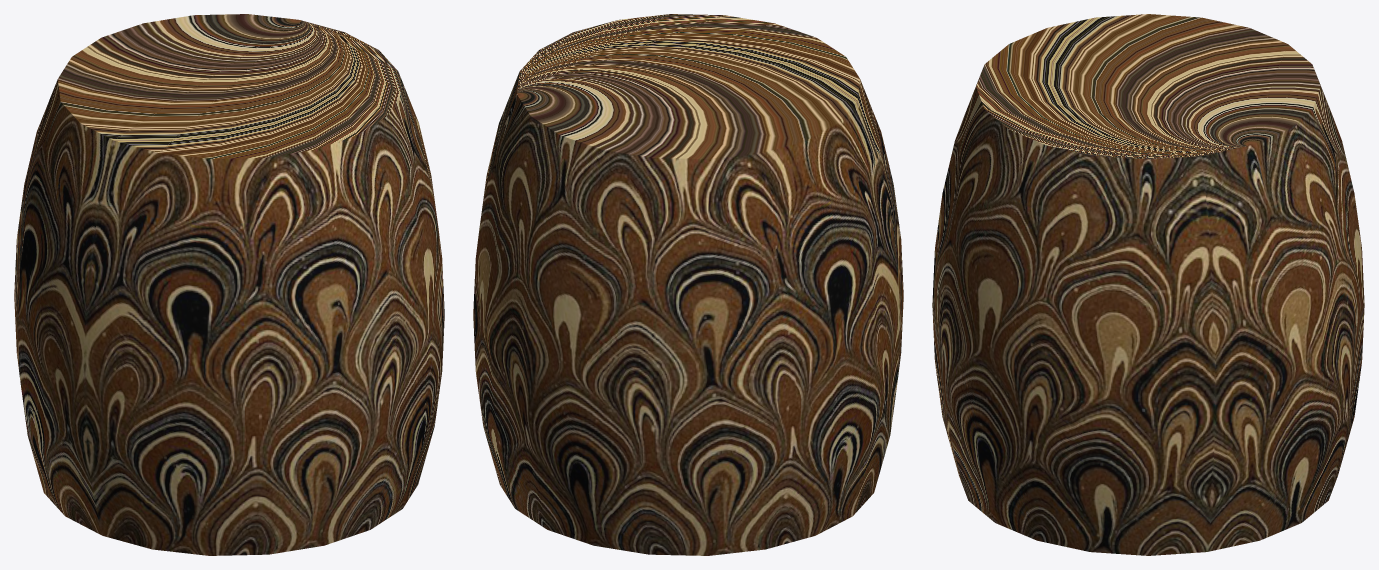
The model's file is distillery interior.fbx.
The picture shows the model from 3 angles, left to right: view 1: azimuth 30°, elevation 25°; view 2: azimuth 150°, elevation 25°; view 3: azimuth 270°, elevation 25°; orthographic projection.
Parts seen in each view (by area): view 1: pSphere1; view 2: pSphere1; view 3: pSphere1.
Part boxes in pixels (left/top/right/bottom): pSphere1: left=14, top=14, right=444, bottom=555; pSphere1: left=473, top=14, right=903, bottom=555; pSphere1: left=932, top=14, right=1364, bottom=555.
Size of the model in its own units: 6.73 by 6.69 by 6.73.
